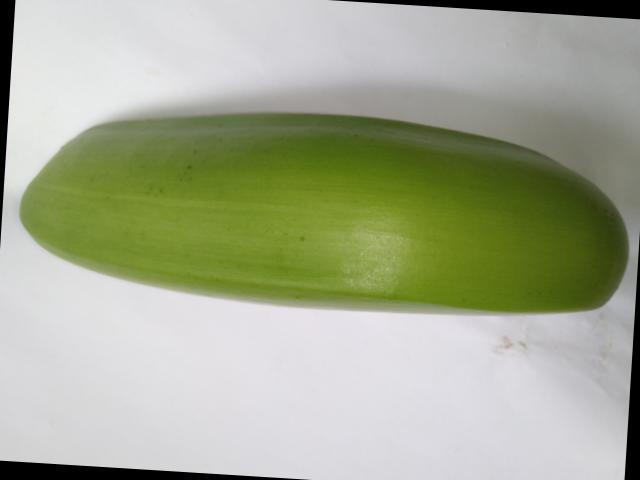freshunripe: (13, 103, 639, 339)
